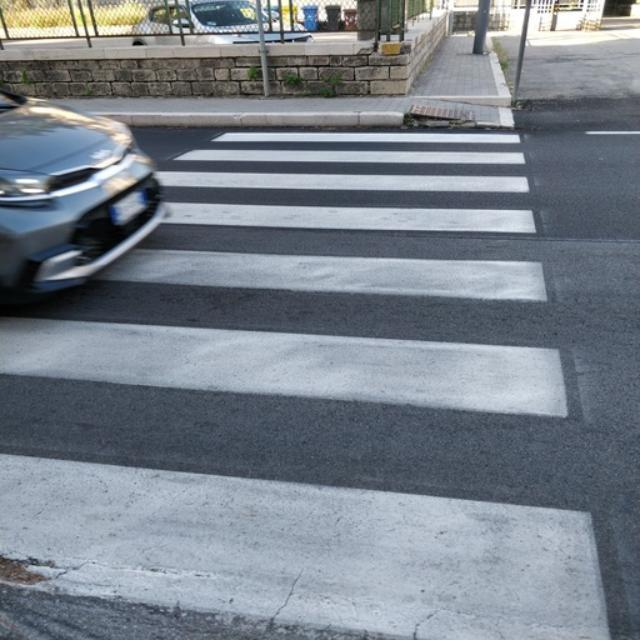sidewalk: (1, 132, 611, 640)
